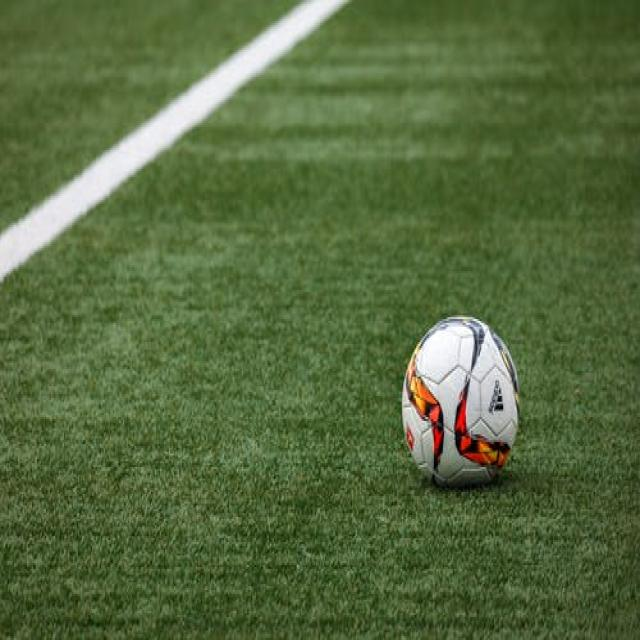soccer ball: (404, 317, 520, 492)
